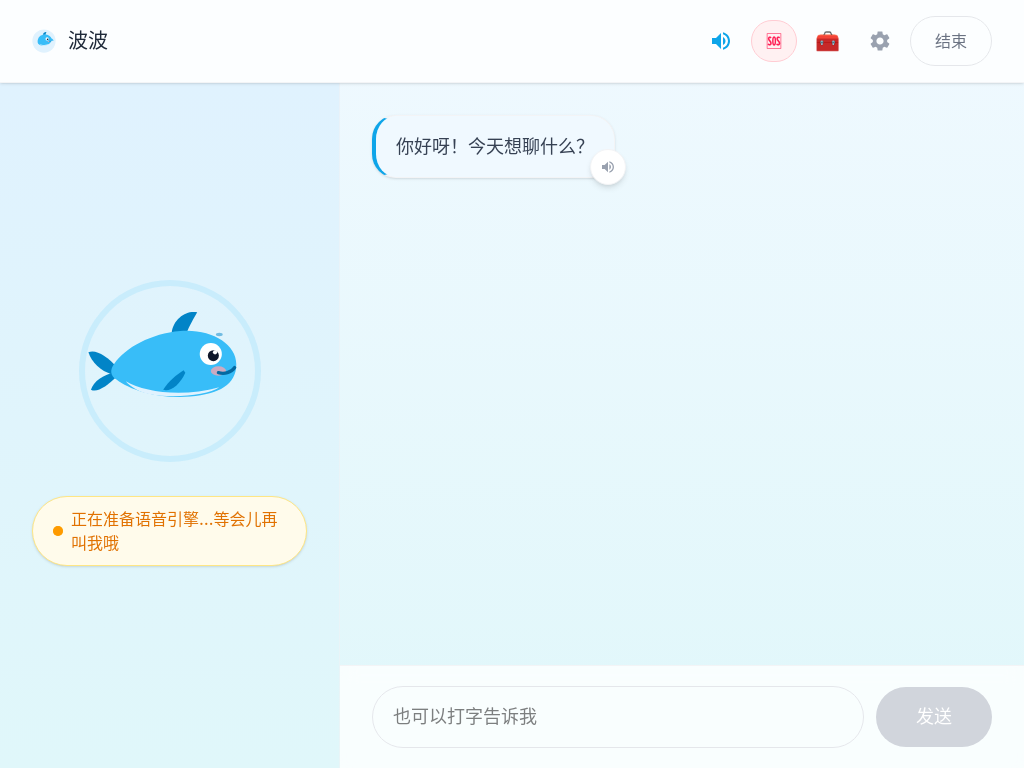
Scenario: ChatRoom › 点击 SOS 打开 SOS 面板，可关闭
Check: the text "波波在这里陪你 💙" is not shown
Click the button titled "SOS 帮助". click: (774, 41)
box: [751, 20, 797, 62]
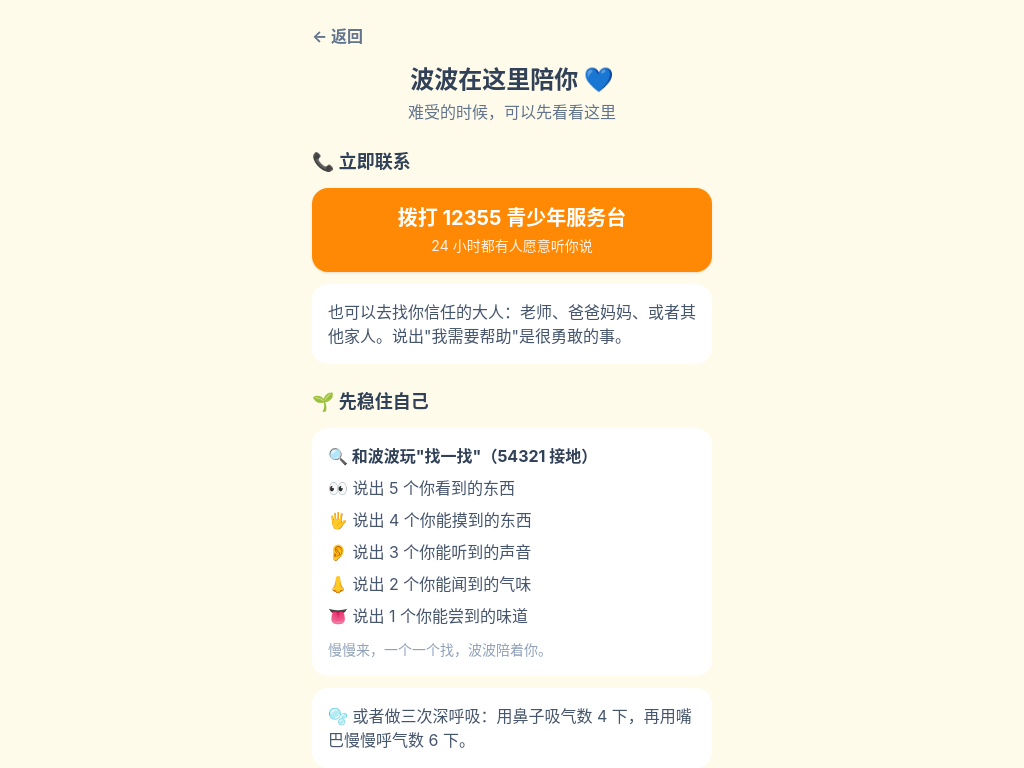
Check: the heading "波波在这里陪你 💙" is shown, box [410, 65, 614, 94]
Click the button "← 返回". click: (338, 36)
box: [312, 24, 363, 48]
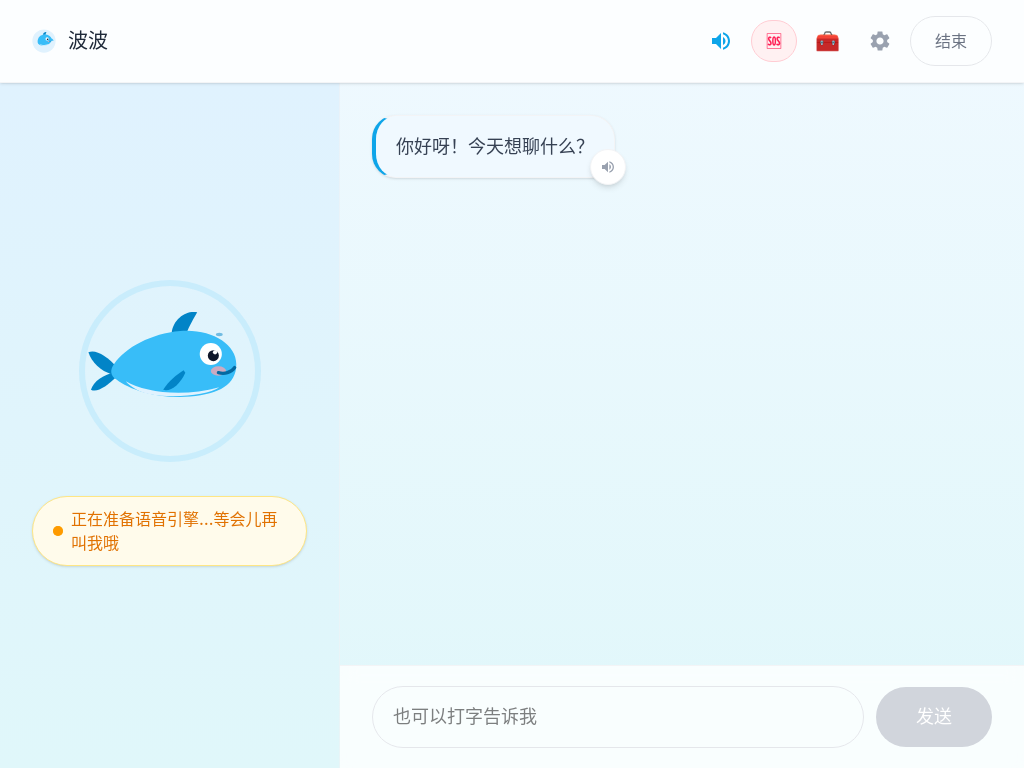
Check: the heading "波波在这里陪你 💙" is gone
